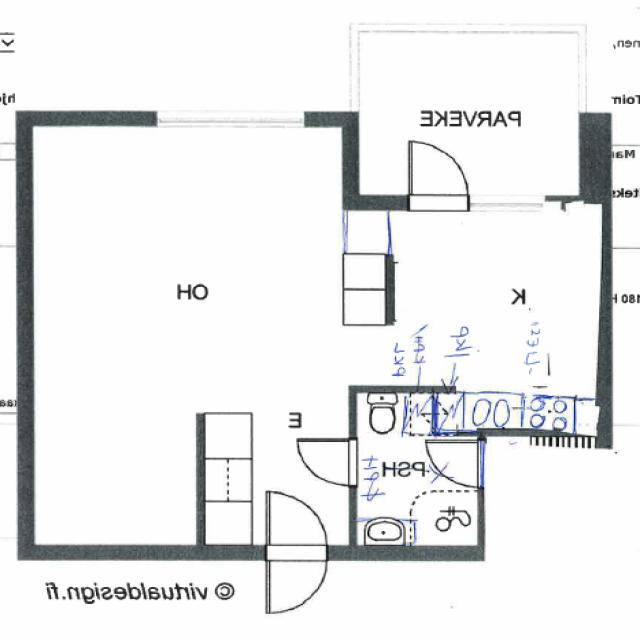door: (268, 490, 328, 559), (268, 545, 328, 614), (410, 144, 468, 211), (297, 440, 357, 488)
